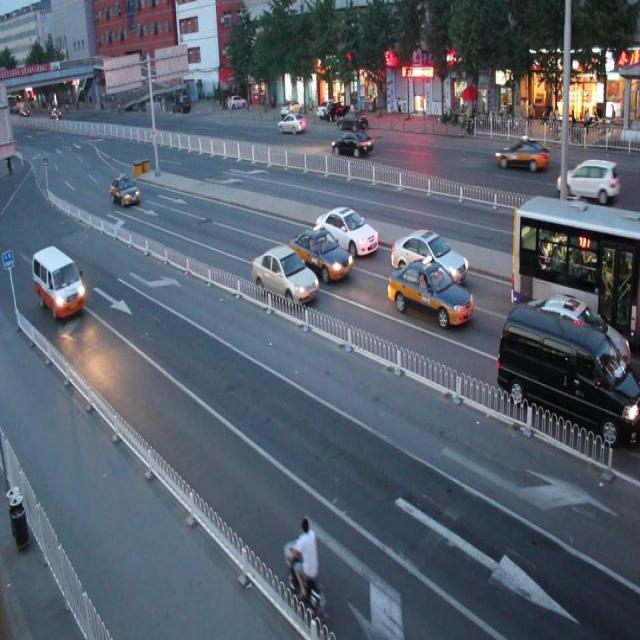car: (516, 294, 628, 392), (388, 260, 474, 330), (390, 228, 467, 283), (289, 224, 353, 281), (251, 248, 317, 303), (316, 206, 378, 256), (556, 157, 620, 202), (545, 192, 599, 239), (495, 136, 548, 171), (330, 128, 372, 156)
truck: (496, 300, 640, 446), (33, 244, 85, 320)
van: (510, 193, 640, 350)
